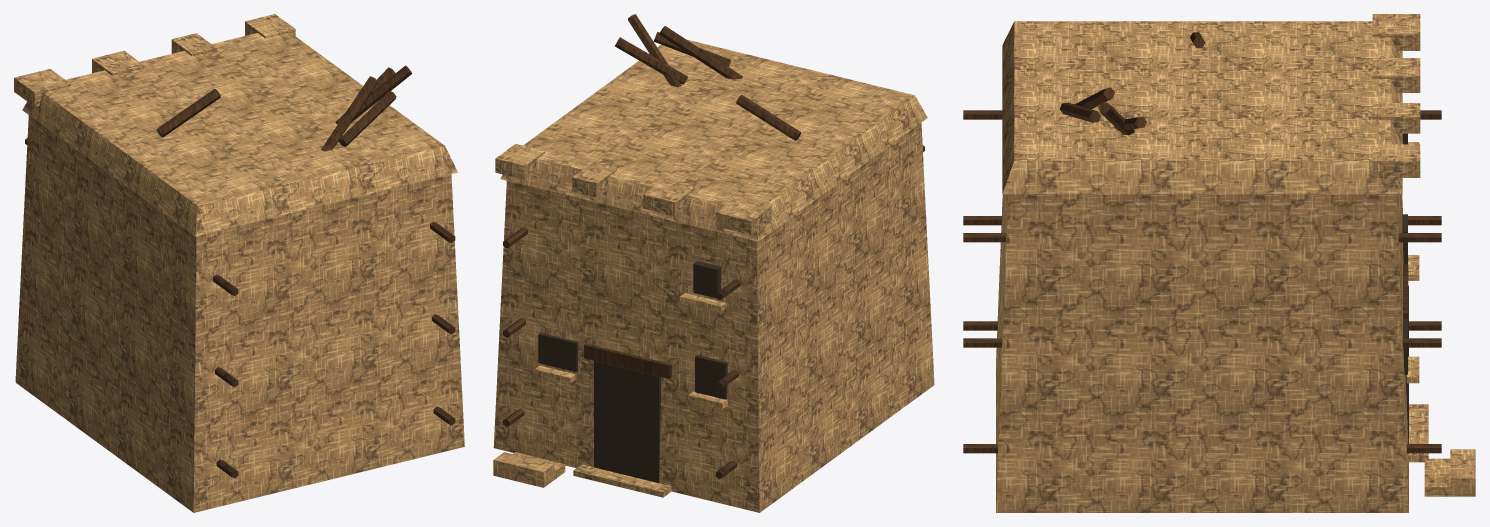
Rendered from mali_house_v1.glb.
3 renders of one model, left to right at view 1: azimuth 30°, elevation 25°; view 2: azimuth 150°, elevation 25°; view 3: azimuth 270°, elevation 25°, orthographic. The views are drawn at different scales.
Visible parts, largest first — view 1: mali_house_v1; view 2: mali_house_v1; view 3: mali_house_v1.
Boxes of the visible parts, x1=… form: mali_house_v1: x1=14, y1=14, x2=464, y2=512; mali_house_v1: x1=493, y1=14, x2=934, y2=512; mali_house_v1: x1=963, y1=14, x2=1475, y2=512.
Size of the model in its own units: 6.36 by 7.82 by 9.
3 materials, 2 textured.
